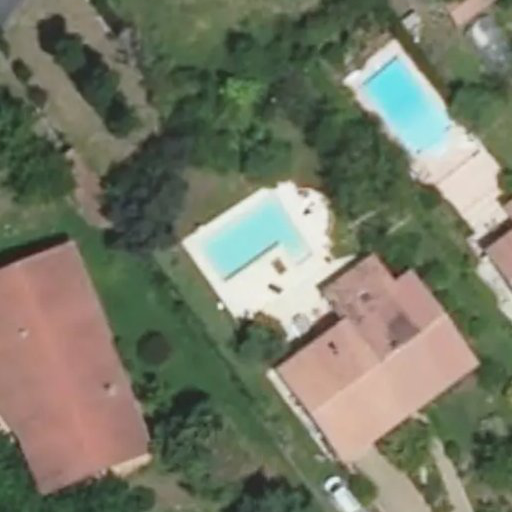pool: (195, 249, 316, 260)
